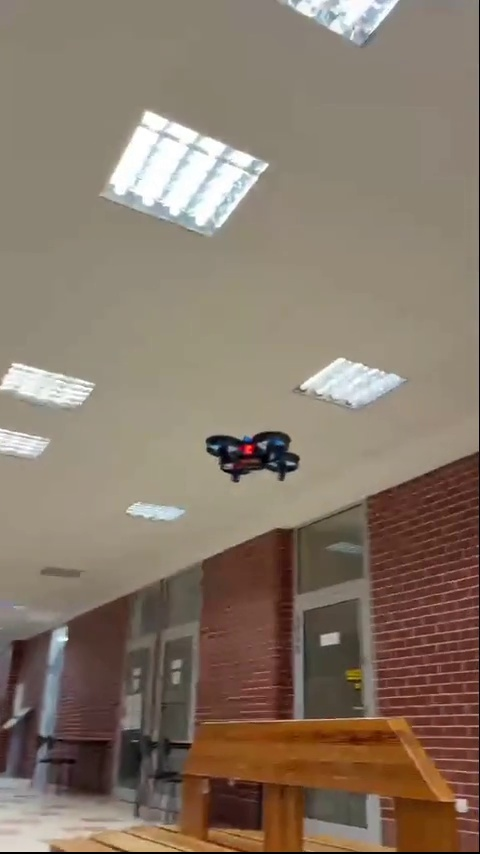drone: (207, 431, 304, 488)
